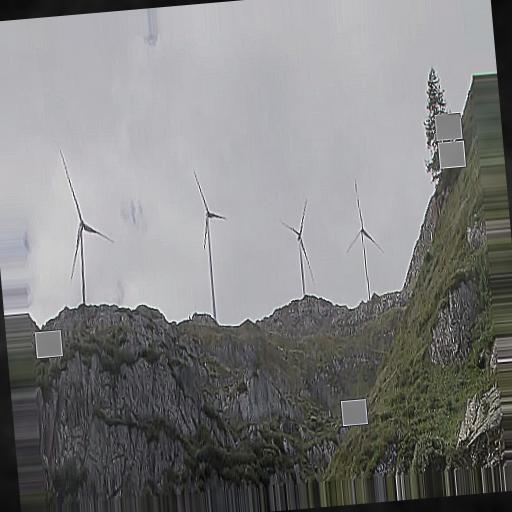wind turbine: (56, 150, 116, 308), (193, 170, 229, 322), (345, 177, 383, 303), (277, 198, 318, 301)
